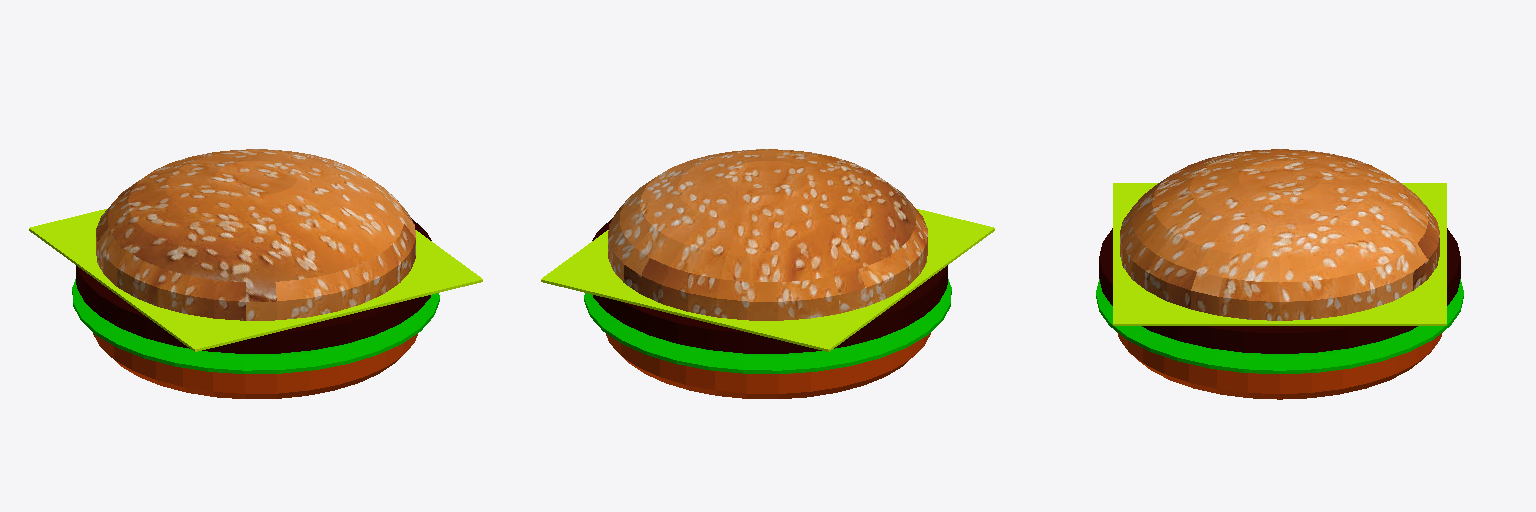
3 renders of one model, left to right at view 1: azimuth 30°, elevation 25°; view 2: azimuth 150°, elevation 25°; view 3: azimuth 270°, elevation 25°, orthographic.
Visible parts, largest first — view 1: Circle_Circle.001; view 2: Circle_Circle.001; view 3: Circle_Circle.001.
Part boxes in pixels (bbox=[...]): Circle_Circle.001: bbox=[29, 149, 482, 398]; Circle_Circle.001: bbox=[541, 149, 994, 398]; Circle_Circle.001: bbox=[1096, 149, 1463, 399].
Size of the model in its own units: 2.95 by 1.38 by 2.95.
Materials: 6 (1 with a texture image).